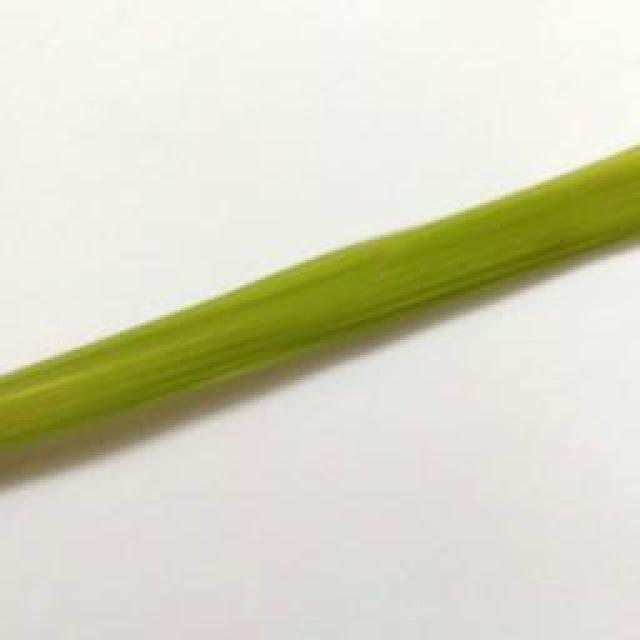Healthy-Plant: (0, 144, 640, 457)
